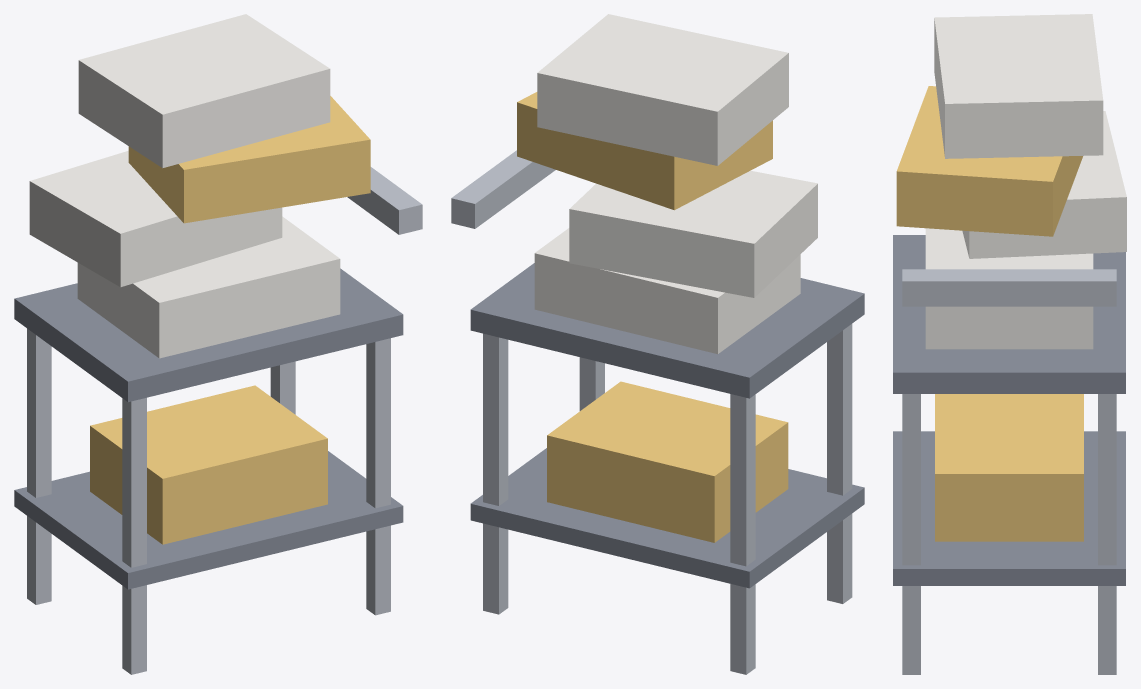
The model's file is station_special_3.glb.
The picture shows the model from 3 angles, left to right: view 1: azimuth 30°, elevation 25°; view 2: azimuth 150°, elevation 25°; view 3: azimuth 270°, elevation 25°; orthographic projection. The views are drawn at different scales.
Parts seen in each view (by area): view 1: berg_2, wagen_stapel_2, wagen_stapel, wagen_platte, berg_0, wagen_boden, berg_1, wagen_strebe, wagen_strebe.002, wagen_strebe.001, wagen_griff, wagen_strebe.003; view 2: berg_2, wagen_stapel_2, berg_0, wagen_platte, wagen_boden, wagen_stapel, berg_1, wagen_strebe.001, wagen_strebe.003, wagen_strebe, wagen_griff, wagen_strebe.002; view 3: berg_2, wagen_stapel_2, wagen_platte, wagen_boden, berg_1, wagen_stapel, berg_0, wagen_griff, wagen_strebe.002, wagen_strebe.003.
Boxes of the visible parts, box(x1,y1,x2,y2) form: berg_2: box(78, 14, 330, 168); wagen_stapel_2: box(90, 385, 327, 544); wagen_stapel: box(77, 216, 340, 358); wagen_platte: box(14, 268, 403, 402); berg_0: box(29, 150, 282, 287); wagen_boden: box(14, 451, 403, 589); berg_1: box(128, 96, 370, 223); wagen_strebe: box(122, 397, 146, 674); wagen_strebe.002: box(366, 338, 390, 615); wagen_strebe.001: box(27, 328, 51, 604); wagen_griff: box(347, 167, 422, 234); wagen_strebe.003: box(270, 361, 295, 414); berg_2: box(537, 14, 788, 165); wagen_stapel_2: box(547, 381, 788, 542); berg_0: box(569, 170, 817, 297); wagen_platte: box(470, 263, 864, 398); wagen_boden: box(470, 448, 864, 588); wagen_stapel: box(534, 228, 800, 354); berg_1: box(517, 92, 772, 210); wagen_strebe.001: box(730, 394, 755, 674); wagen_strebe.003: box(483, 333, 508, 614); wagen_strebe: box(827, 324, 852, 603); wagen_griff: box(451, 150, 555, 228); wagen_strebe.002: box(579, 357, 604, 410); berg_2: box(934, 14, 1103, 158); wagen_stapel_2: box(935, 394, 1083, 541); wagen_platte: box(893, 235, 1125, 393); wagen_boden: box(893, 431, 1125, 585); berg_1: box(896, 86, 1082, 236); wagen_stapel: box(925, 228, 1093, 349); berg_0: box(962, 111, 1126, 258); wagen_griff: box(902, 269, 1116, 306); wagen_strebe.002: box(902, 394, 920, 674); wagen_strebe.003: box(1098, 394, 1116, 674).
Size of the model in its own units: 0.76 by 1.31 by 0.5021.
